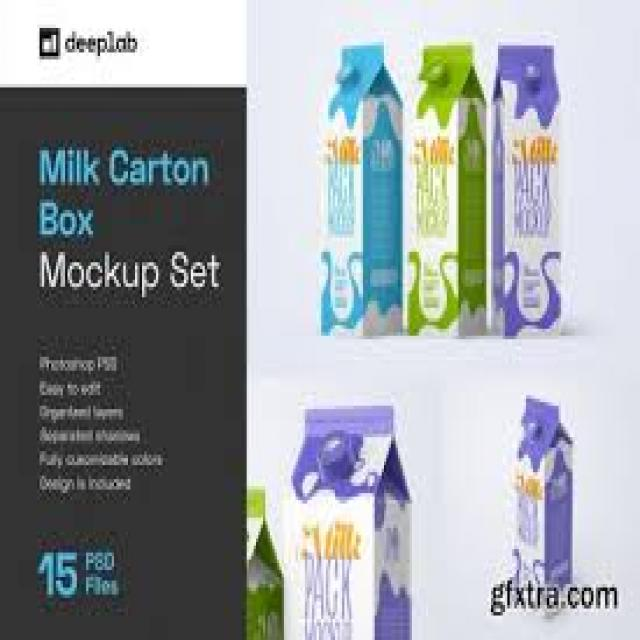non_white_jug: (298, 30, 412, 355), (475, 44, 582, 355), (285, 388, 416, 640), (397, 35, 499, 350), (491, 390, 582, 621)
